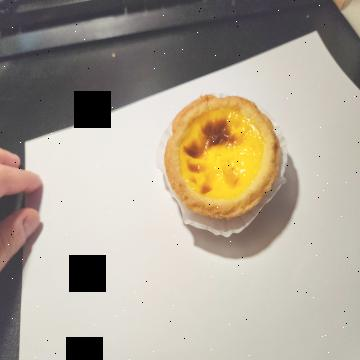EggTart: (165, 93, 279, 218)
